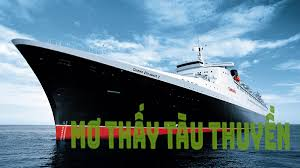tau_dansu: (12, 34, 287, 140)
